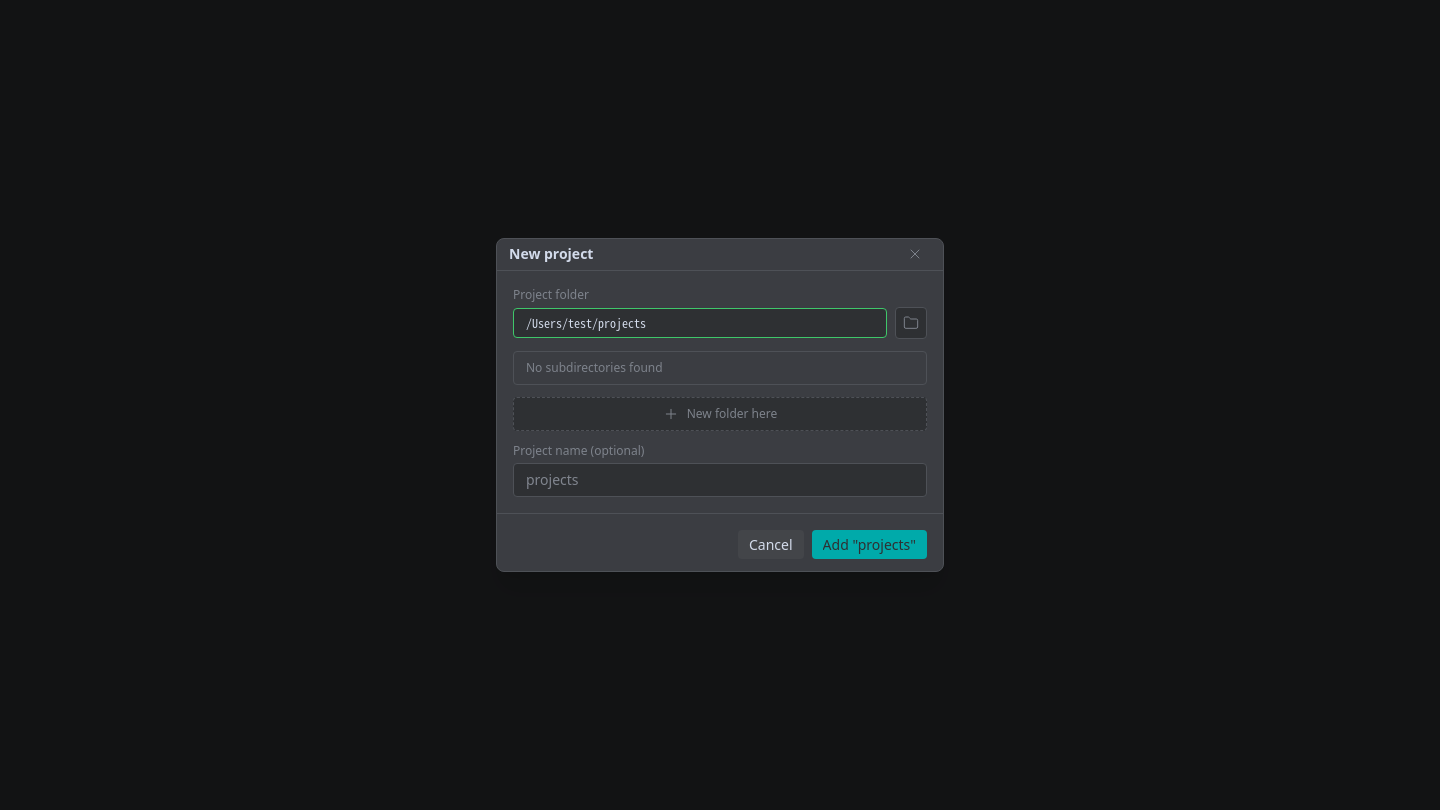
NewProjectDialog -- create new folder › surfaces server error messages without closing the form
This screenshot has width=1440, height=810.
Step 1. Click the button "New folder here" → {"x": 720, "y": 414}, box [513, 397, 927, 431]
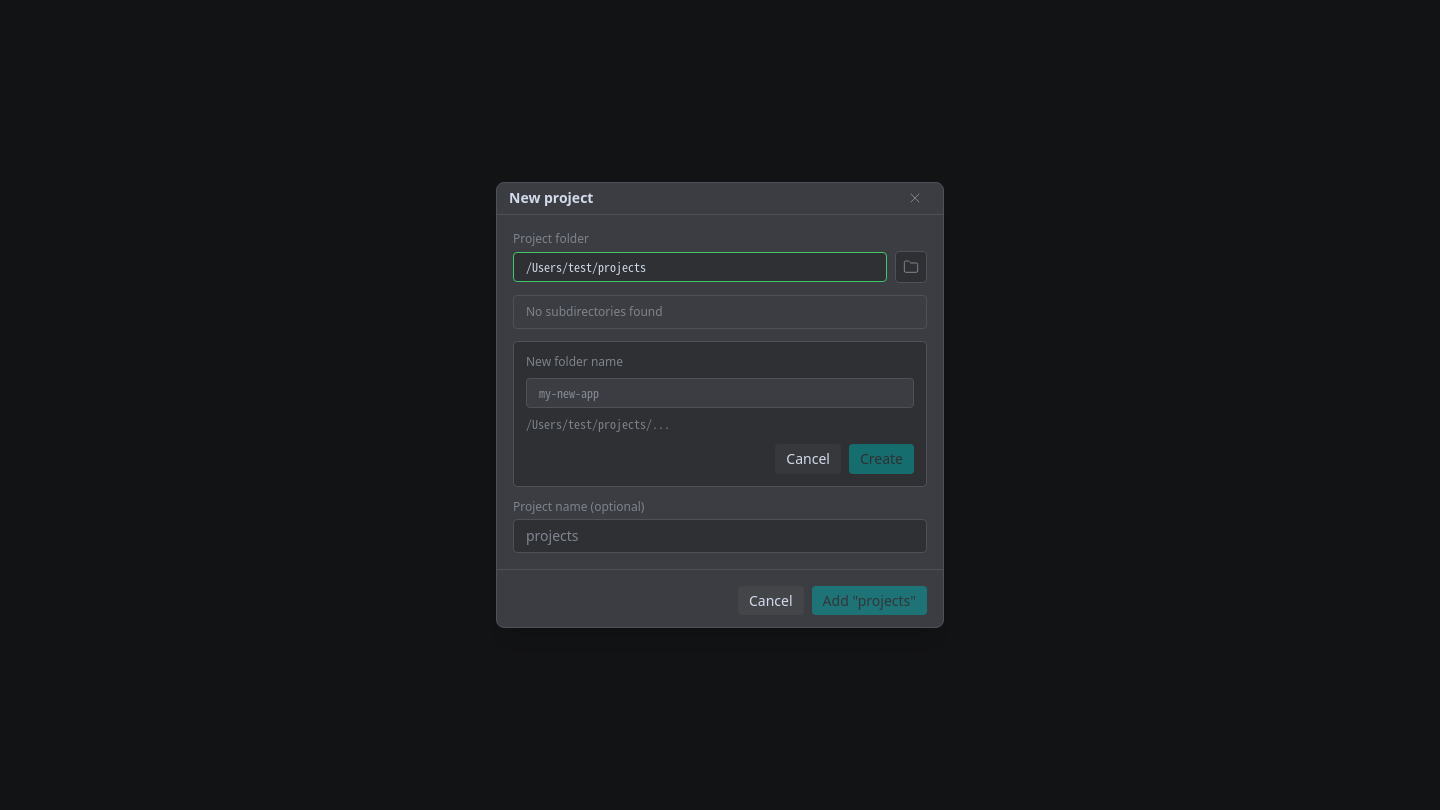
Expected: the field with placeholder "my-new-app" is shown
Step 2. Type "parasor" into the field with placeholder "my-new-app" → {"x": 720, "y": 393}, box [526, 378, 914, 408]
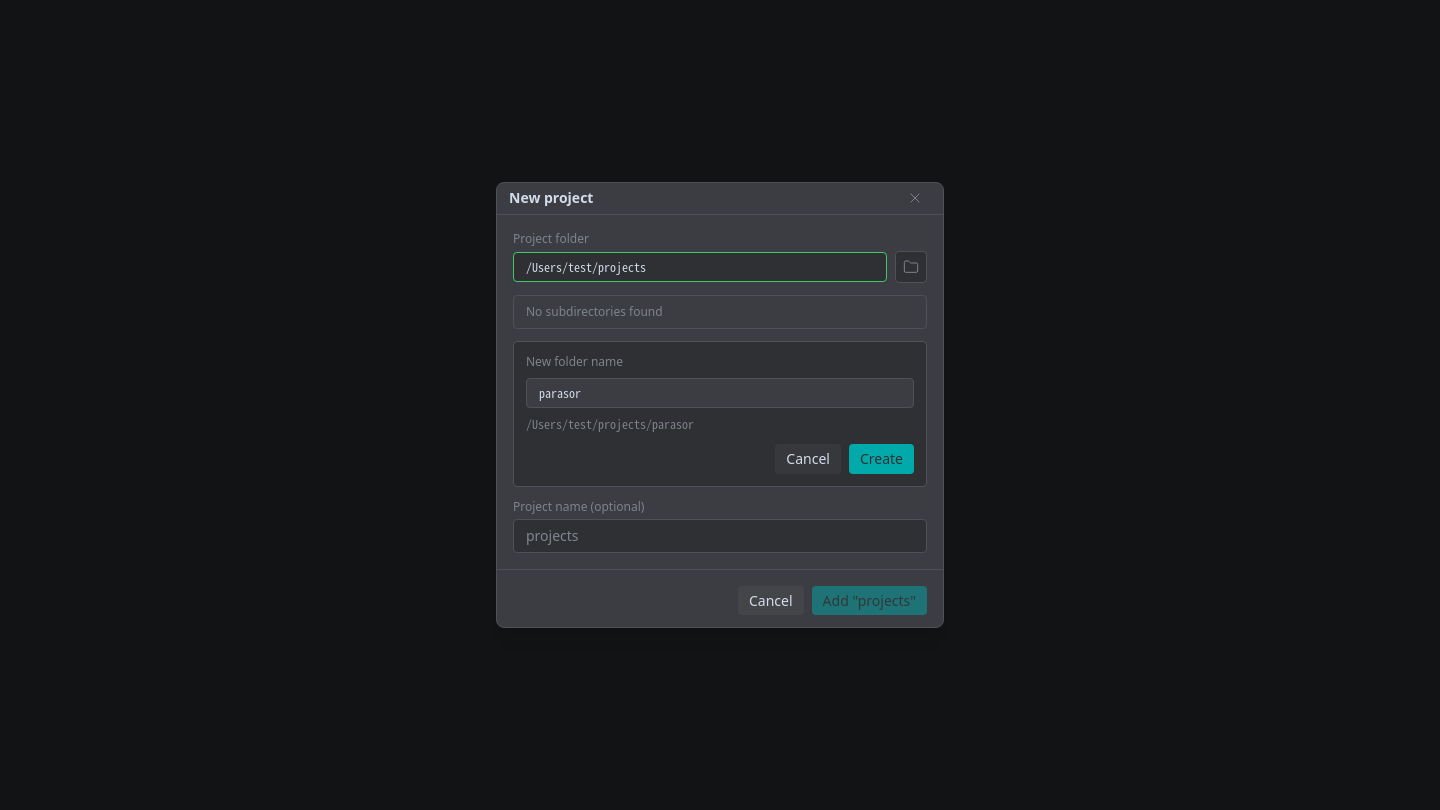
Step 3. Click the button "Create" → {"x": 881, "y": 459}, box [849, 444, 914, 474]
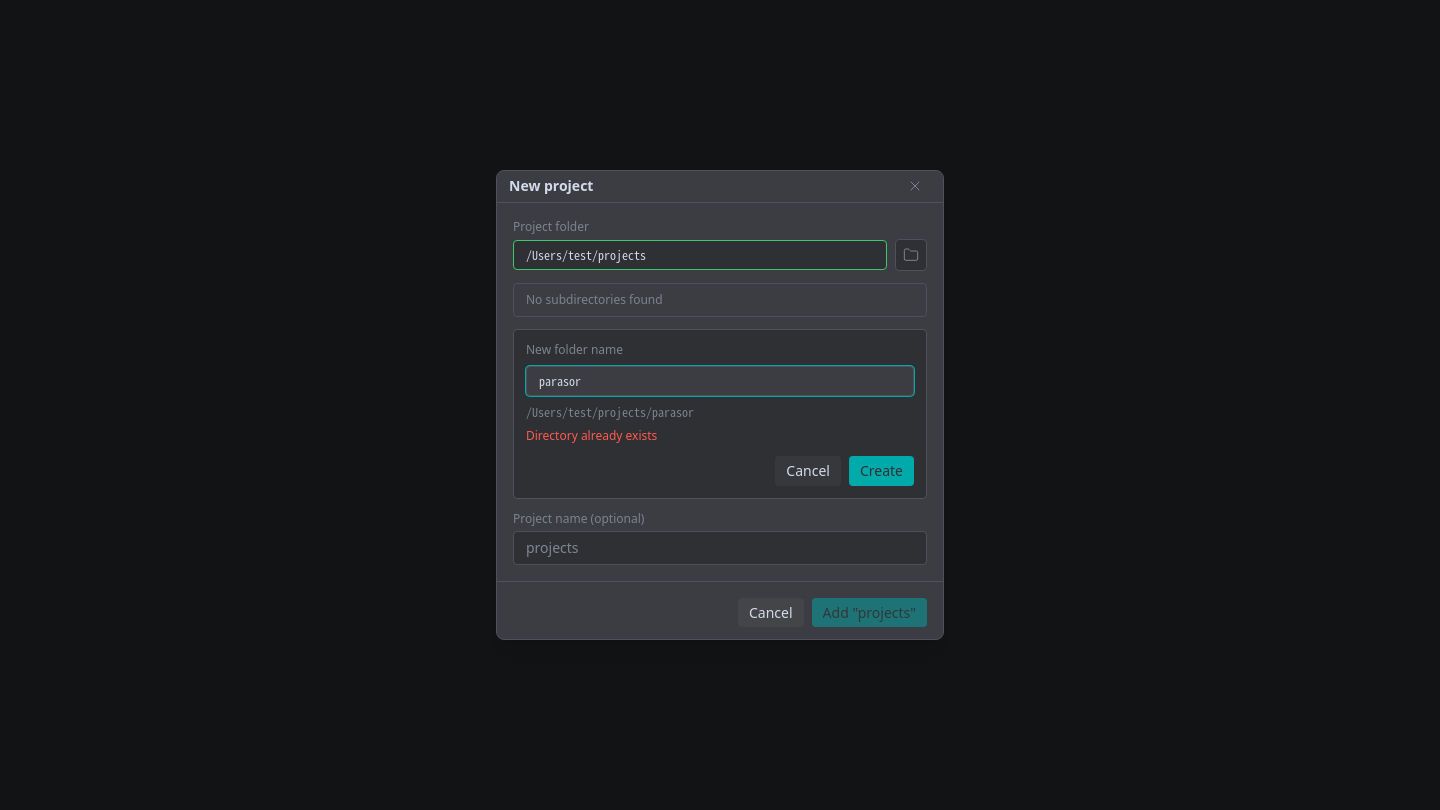
Expected: the text "Directory already exists" is shown, [526, 427, 657, 444]
